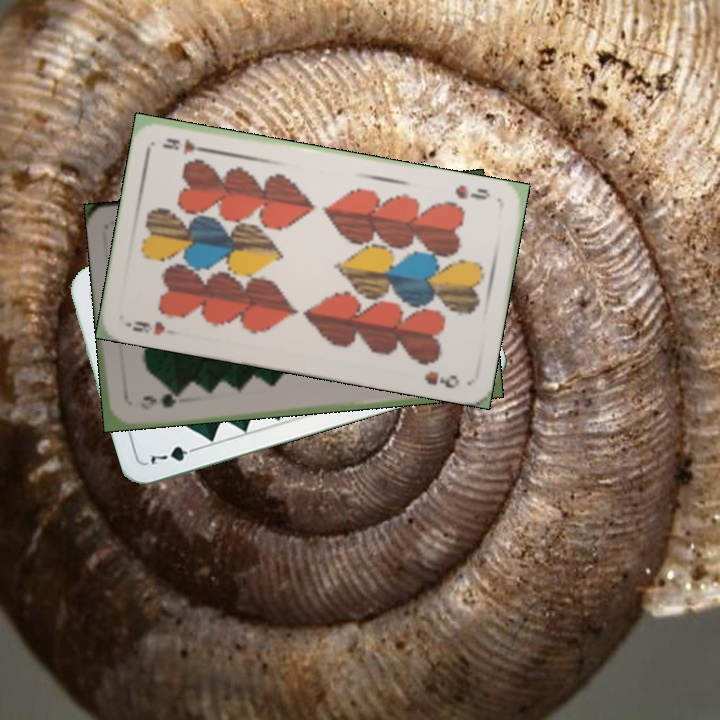G7: (146, 442, 203, 467)
G9: (136, 389, 185, 413)
H9: (122, 316, 168, 338), (451, 181, 493, 203)
